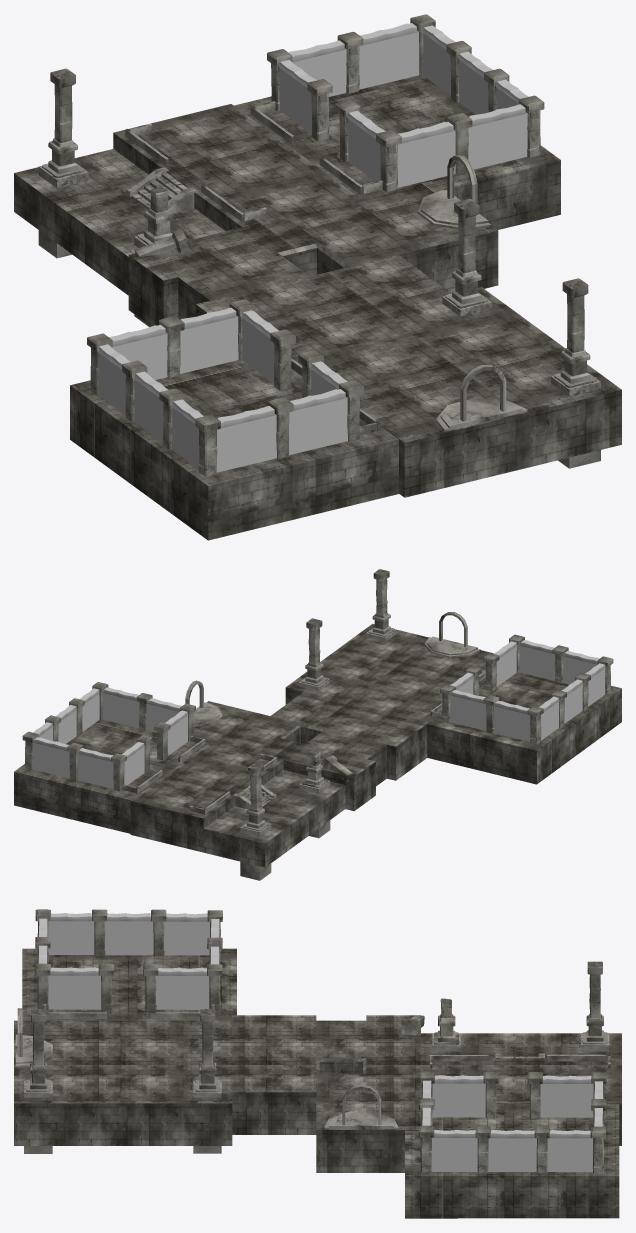
File: Level11.fbx
The picture shows the model from 3 angles, top to bottom: view 1: azimuth 30°, elevation 25°; view 2: azimuth 150°, elevation 25°; view 3: azimuth 270°, elevation 25°; orthographic projection. The views are drawn at different scales.
Visible parts, largest first — view 1: Mid_Base, Base1 (×2), Full_Pillar (×3), Wall4 (×2), Wall6 (×2), Wall9 (×2), Wall (×2), Wall5 (×2), Wall10 (×2), Wall8 (×2), Chest_Base (×2), Wall2 (×2) (+16 smaller); view 2: Mid_Base, Base1 (×2), Full_Pillar (×3), Wall9 (×2), Wall (×2), Wall4 (×2), Wall6 (×2), Wall2 (×2), Chest_Base (×2), Wall10 (×2), Wall7 (×2), Wall5 (+7 smaller); view 3: Mid_Base, Base1 (×2), Wall5 (×2), Wall2 (×2), Wall10 (×2), Full_Pillar (×3), Wall8 (×2), Wall7 (×2), Chest_Base (×2), Pillar8 (×2), Pillar5 (×2), Pillar9 (×2) (+11 smaller).
Boxes of the visible parts, x1,y1,x2,y2 form: Mid_Base: (14, 104, 621, 497); Base1 (×2): (70, 75, 560, 540); Full_Pillar (×3): (42, 68, 596, 387); Wall4 (×2): (216, 23, 419, 472); Wall6 (×2): (180, 122, 455, 373); Wall9 (×2): (109, 104, 527, 379); Wall (×2): (289, 40, 347, 455); Wall5 (×2): (241, 110, 385, 383); Wall10 (×2): (133, 51, 492, 442); Wall8 (×2): (171, 25, 455, 468); Chest_Base (×2): (417, 189, 527, 431); Wall2 (×2): (278, 60, 347, 395); Mid_Base: (130, 623, 493, 867); Base1 (×2): (14, 672, 621, 833); Full_Pillar (×3): (242, 569, 394, 831); Wall9 (×2): (102, 687, 530, 741); Wall (×2): (77, 640, 555, 789); Wall4 (×2): (33, 650, 599, 778); Wall6 (×2): (147, 690, 486, 732); Wall2 (×2): (121, 641, 517, 785); Chest_Base (×2): (193, 636, 480, 727); Wall10 (×2): (56, 679, 583, 743); Wall7 (×2): (79, 688, 559, 740); Wall5: (165, 710, 188, 755); Mid_Base: (14, 1015, 621, 1172); Base1 (×2): (22, 948, 619, 1218); Wall5 (×2): (156, 967, 485, 1117); Wall2 (×2): (48, 967, 593, 1117); Wall10 (×2): (105, 913, 536, 1171); Full_Pillar (×3): (25, 961, 608, 1092); Wall8 (×2): (48, 913, 592, 1172); Wall7 (×2): (164, 913, 477, 1171); Chest_Base (×2): (15, 1034, 398, 1129); Pillar8 (×2): (151, 909, 490, 1172); Pillar5 (×2): (143, 964, 498, 1118); Pillar9 (×2): (92, 909, 549, 1172).
Bounding box in the file's own units: 67.29 × 20.35 × 76.01.
